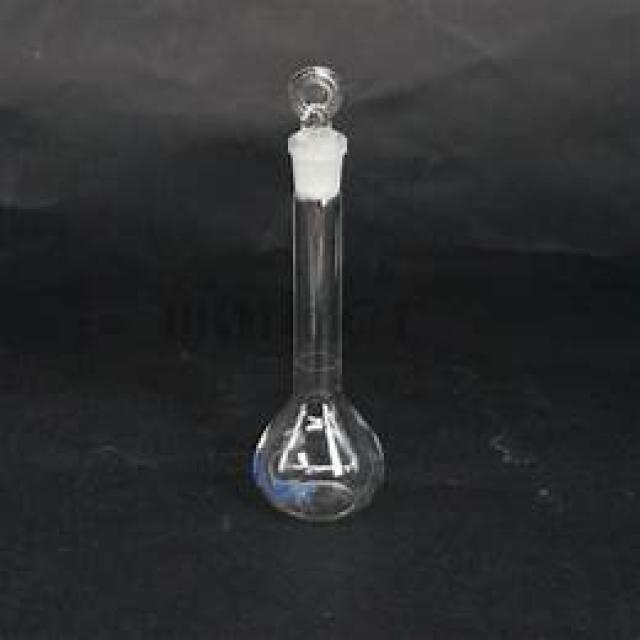Volumetric flask: (239, 52, 392, 519)
